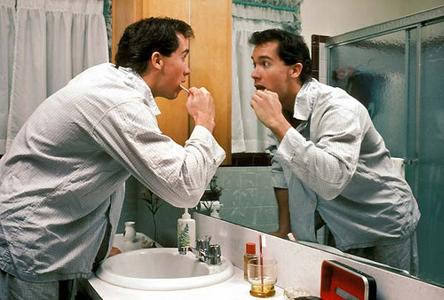person: (3, 18, 228, 300)
